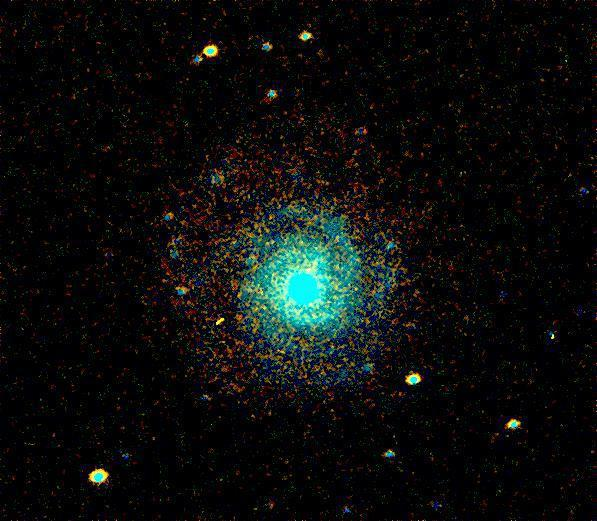star: (208, 311, 238, 341)
